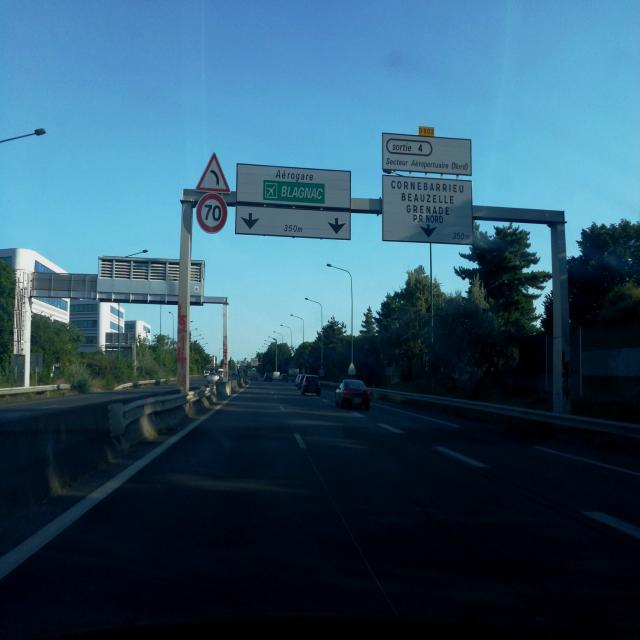car: (334, 378, 371, 409), (301, 374, 321, 396), (295, 374, 306, 388), (264, 372, 272, 382)
